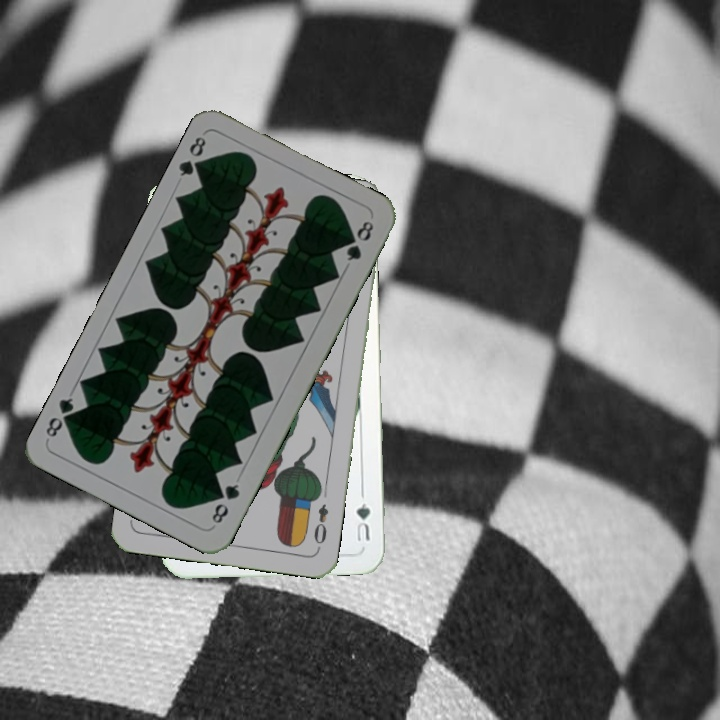EO: (309, 500, 332, 552)
G8: (174, 132, 210, 179), (207, 479, 242, 526)
GU: (352, 499, 373, 544)
